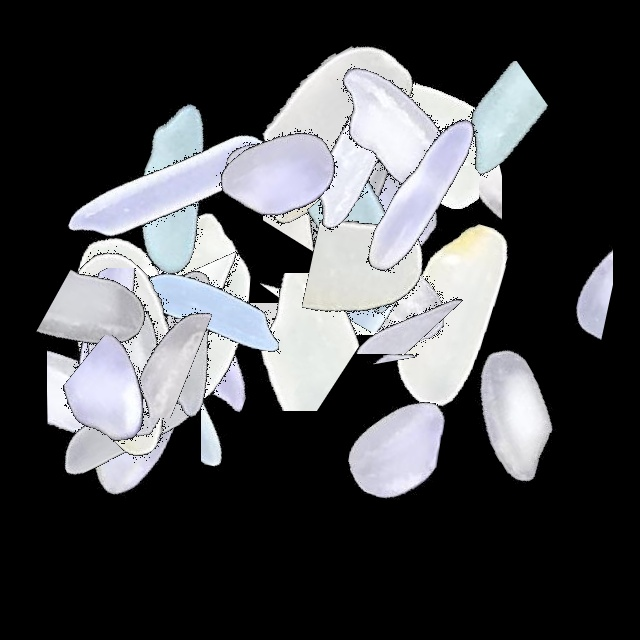Broken: (230, 32, 403, 282), (296, 85, 459, 335), (250, 48, 411, 298), (320, 17, 479, 267), (17, 335, 267, 494), (300, 127, 458, 377), (0, 254, 250, 411), (0, 268, 250, 419), (256, 204, 506, 348), (47, 265, 189, 515), (355, 61, 605, 200), (153, 273, 403, 411), (0, 285, 250, 418), (372, 58, 502, 308), (255, 229, 505, 354), (75, 222, 193, 472), (496, 153, 613, 403), (261, 217, 511, 332), (145, 203, 259, 453), (256, 222, 506, 335), (200, 89, 450, 191), (163, 34, 259, 284), (192, 303, 442, 397), (263, 69, 356, 319), (201, 265, 292, 515), (5, 317, 255, 407), (175, 216, 425, 303), (335, 196, 419, 446)
Full: (78, 188, 328, 438), (0, 219, 250, 469), (71, 185, 321, 435), (322, 187, 572, 437), (50, 60, 300, 310), (9, 313, 259, 563), (260, 77, 510, 327), (21, 248, 271, 498), (0, 301, 250, 551), (42, 58, 292, 308), (256, 171, 506, 421), (64, 217, 314, 467), (87, 185, 337, 435), (0, 226, 250, 476), (206, 0, 456, 250), (4, 243, 254, 493), (388, 289, 638, 539), (231, 29, 481, 279), (270, 8, 520, 258), (269, 322, 519, 572), (294, 67, 544, 317), (155, 51, 405, 301)
